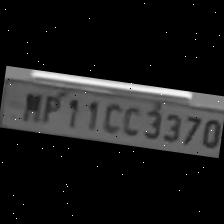0: (197, 114, 223, 150)
1: (58, 93, 84, 130), (77, 94, 102, 132)
3: (159, 108, 184, 145), (140, 103, 164, 140)
7: (178, 111, 203, 147)
C: (118, 99, 144, 138), (98, 97, 124, 135)
M: (17, 88, 45, 125)
P: (37, 90, 63, 127)
